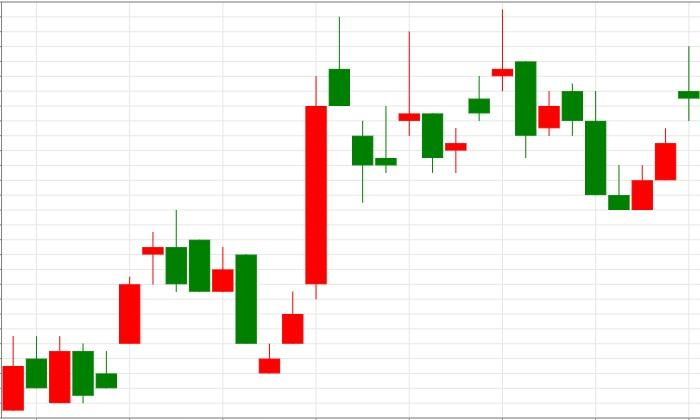morning_star_rise: (166, 209, 303, 373)
